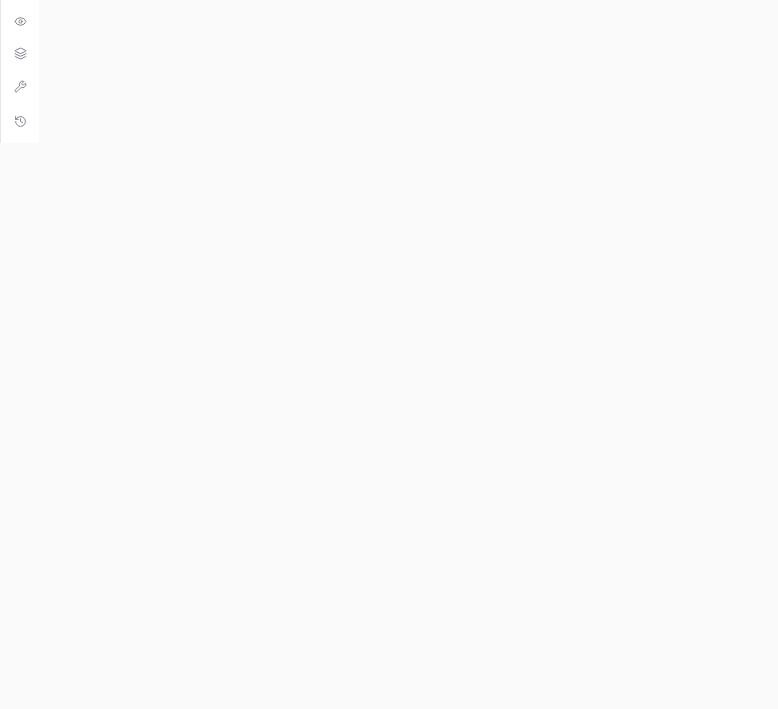
Test: RightRail › toggle: second click closes the same panel
The image size is (778, 709).
Click the button with test id "right-rail-view".
click(20, 54)  # box top-left (5, 39), bottom-right (35, 68)
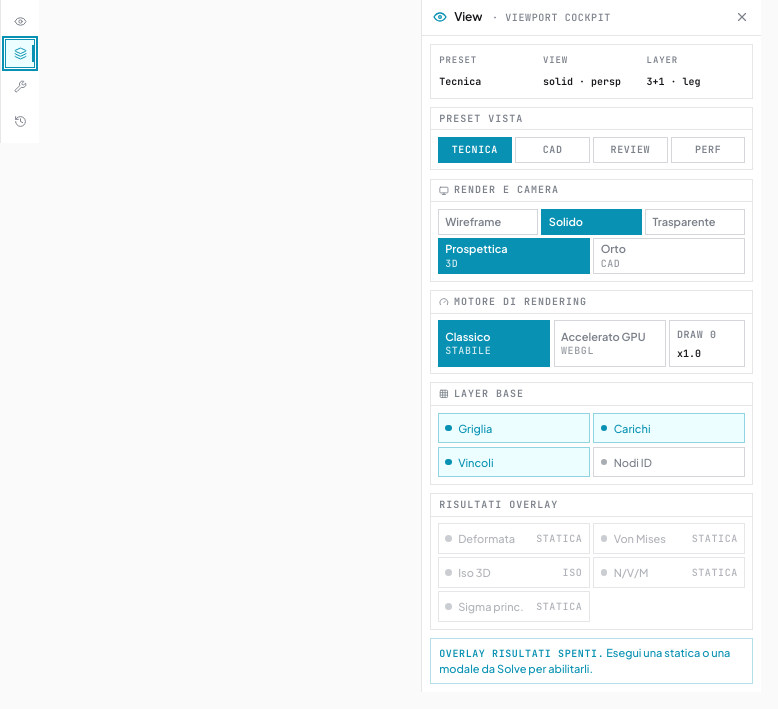
Now the element with test id "right-panel-view" is shown, box top-left (421, 0), bottom-right (761, 600)
Click the button with test id "right-rail-view".
click(20, 54)  # box top-left (5, 39), bottom-right (35, 68)
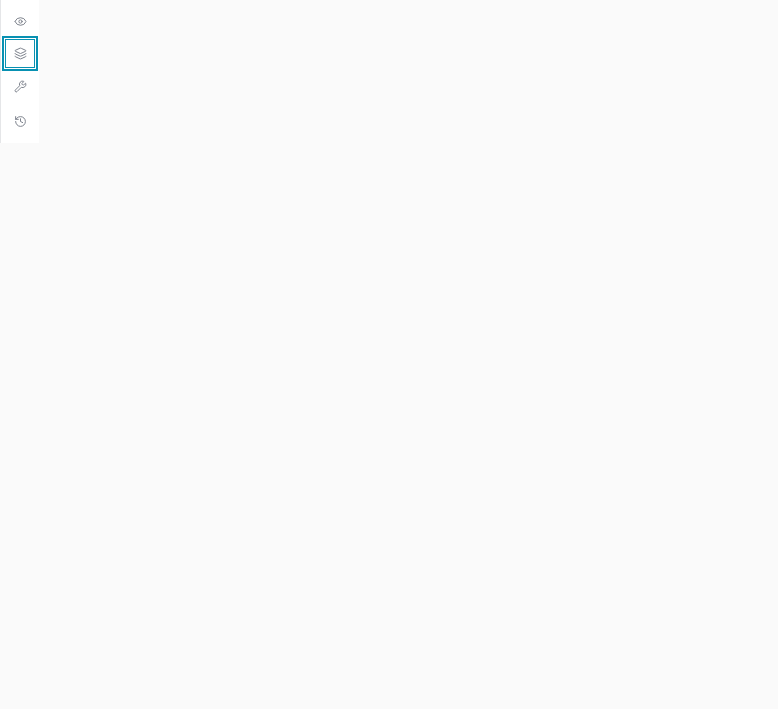
Now the element with test id "right-panel-view" is gone
